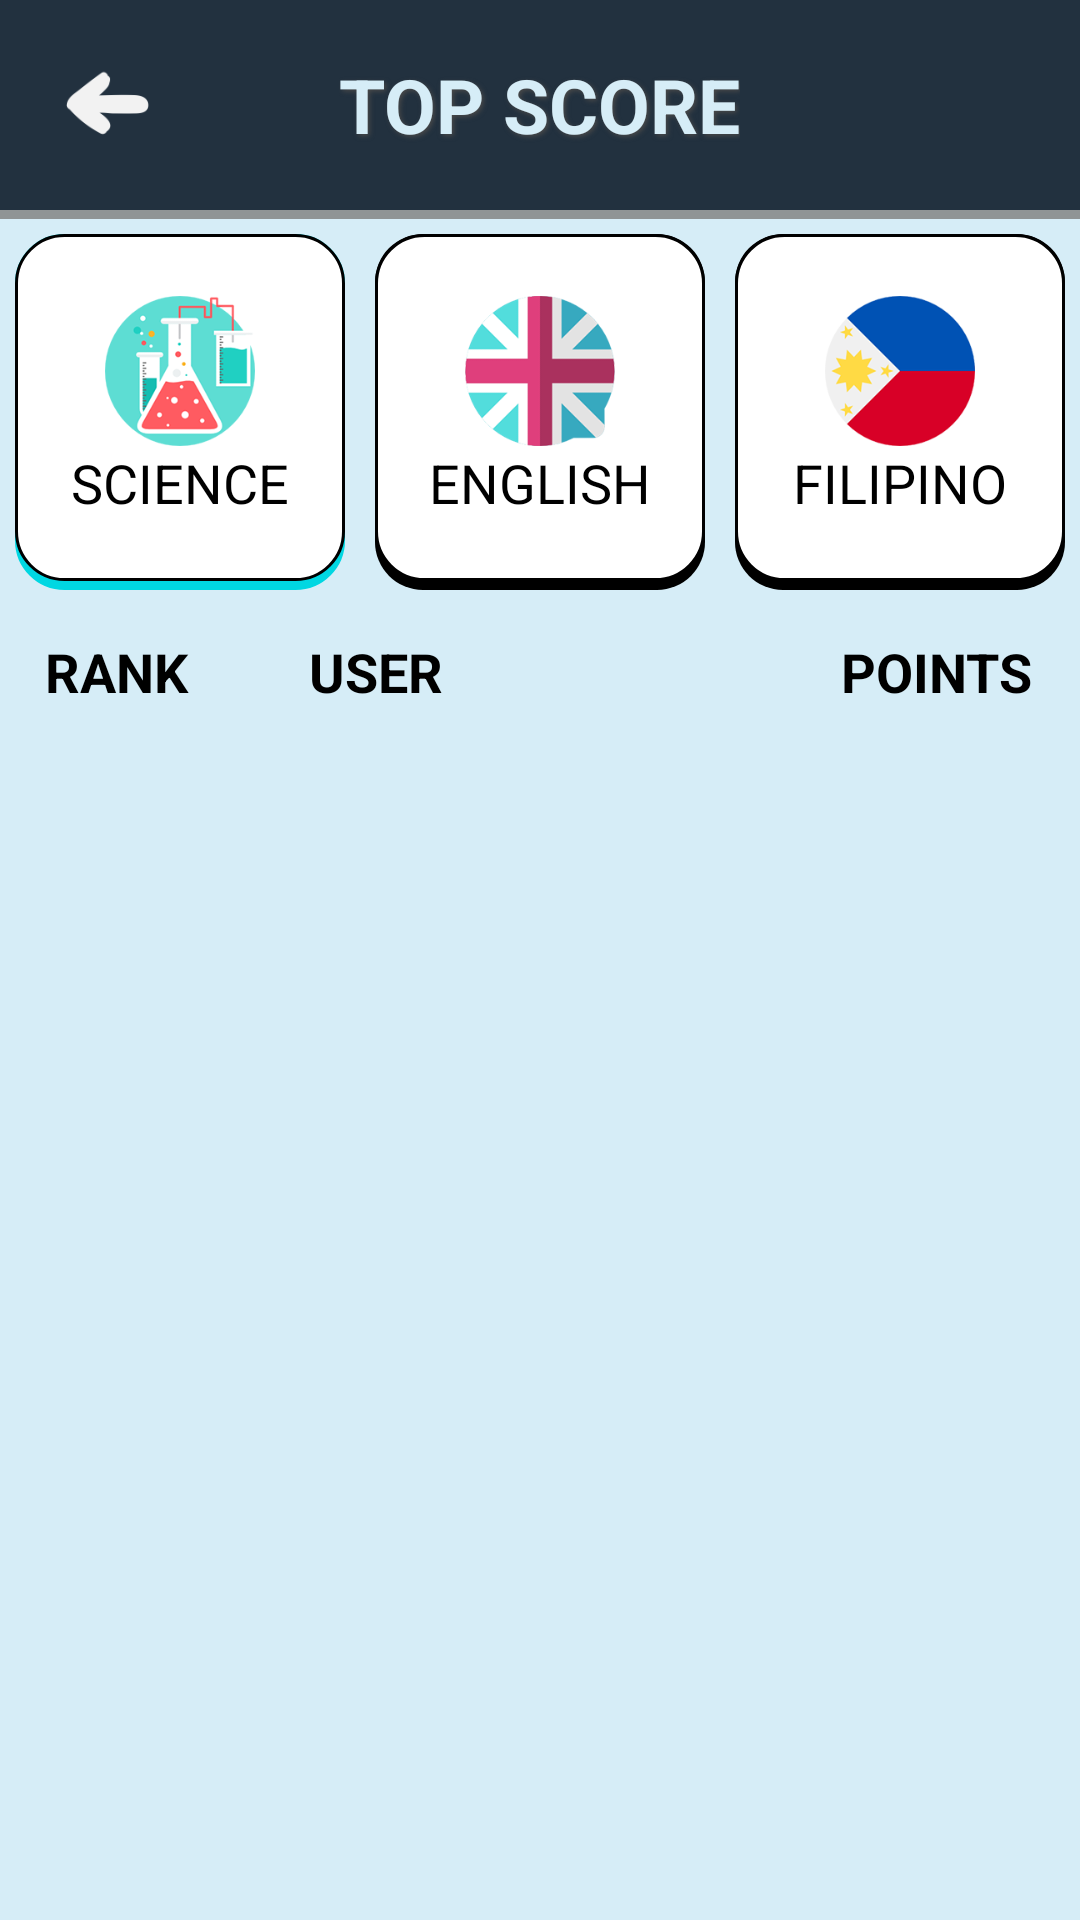

Screen size 1080x1920. Icon name, then its center in pixels as (x,y):
back arrow: (107,103)
language: (540,371)
